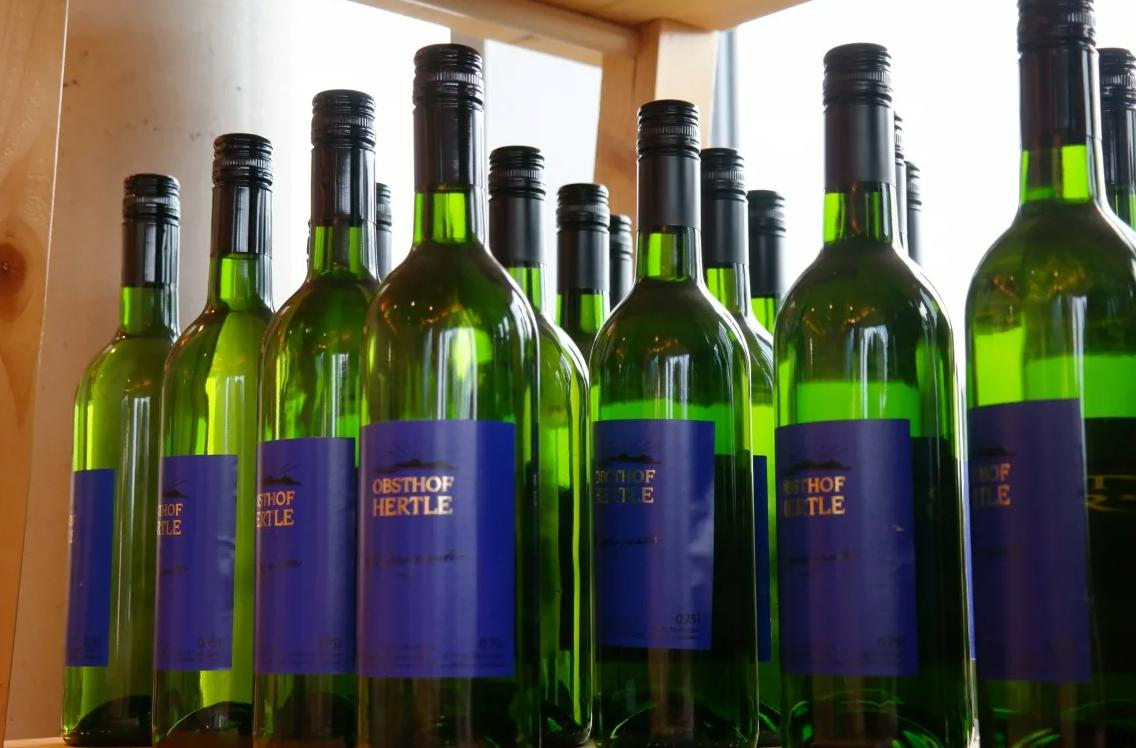wine bottle: (774, 41, 969, 747), (357, 43, 543, 748), (966, 0, 1136, 748), (592, 98, 758, 748), (252, 87, 386, 748), (149, 131, 277, 748), (61, 171, 183, 748), (488, 143, 594, 747), (704, 149, 783, 748), (556, 181, 613, 367)
wine label: (357, 422, 514, 676), (776, 419, 917, 674), (966, 402, 1091, 683), (593, 418, 718, 649), (257, 438, 355, 673), (157, 453, 238, 669), (66, 468, 117, 667), (752, 451, 771, 663)
